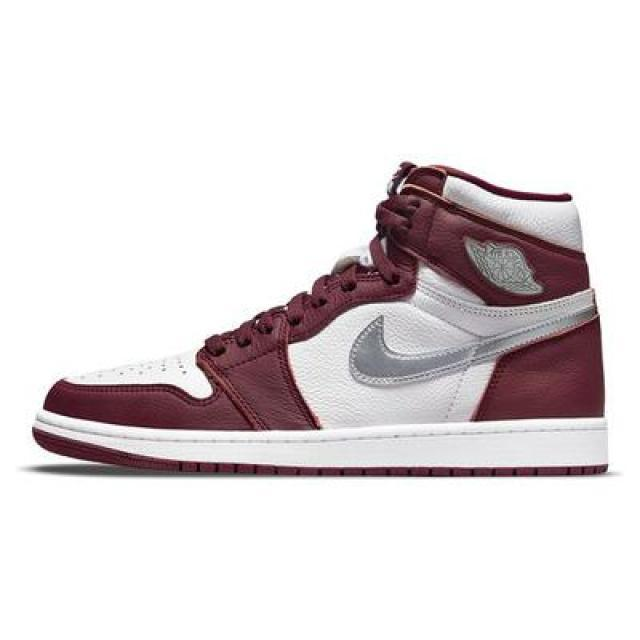J1_InsoleChar: (29, 158, 612, 479)
J1_ShoeLogo: (461, 233, 545, 297)
J1_StitchPattern: (199, 239, 600, 395), (30, 409, 611, 478), (346, 286, 601, 389), (201, 250, 395, 368), (195, 304, 312, 432), (170, 458, 610, 478), (60, 349, 212, 400), (195, 345, 270, 432), (202, 305, 287, 366), (105, 354, 189, 380)
